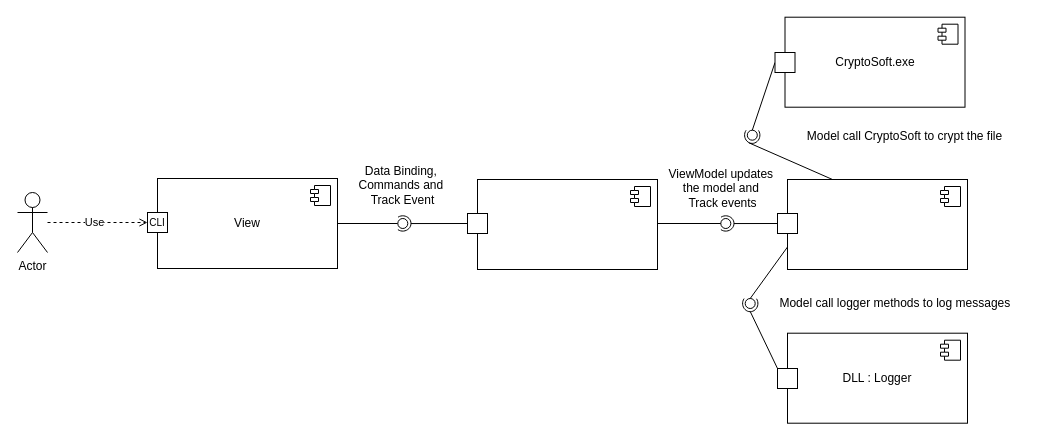
The diagram is 1040 pixels wide and 441 high, and some of its shapes have lost their labels. Each missing label, with the box of its shape:
Model: (786, 178, 968, 270)
ViewModel: (476, 178, 658, 270)
